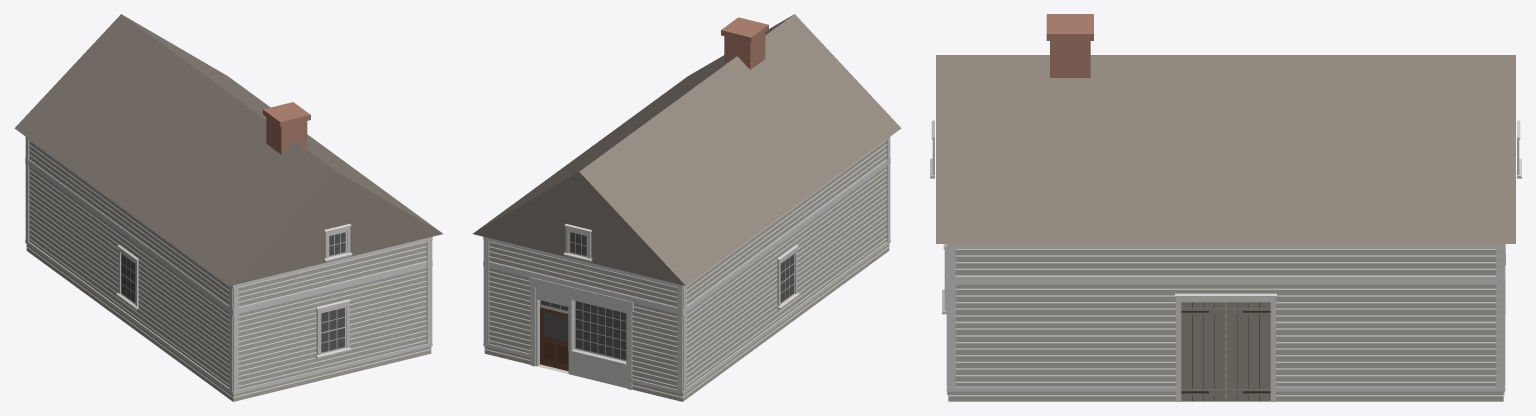
Rendered from recon_1835_blk_south_water_dearborn_c2_07__inferred_1835.glb.
The picture shows the model from 3 angles, left to right: view 1: azimuth 30°, elevation 25°; view 2: azimuth 150°, elevation 25°; view 3: azimuth 270°, elevation 25°; orthographic projection. The views are drawn at different scales.
Parts seen in each view (by area): view 1: recon_1835_blk_south_water_dearborn_c2_07__inferred_1835; view 2: recon_1835_blk_south_water_dearborn_c2_07__inferred_1835; view 3: recon_1835_blk_south_water_dearborn_c2_07__inferred_1835.
Boxes of the visible parts, x1,y1,x2,y2 form: recon_1835_blk_south_water_dearborn_c2_07__inferred_1835: (14,14,442,401); recon_1835_blk_south_water_dearborn_c2_07__inferred_1835: (473,14,901,401); recon_1835_blk_south_water_dearborn_c2_07__inferred_1835: (930,14,1521,401).
Size of the model in its own units: 6.88 by 7.15 by 12.27.
